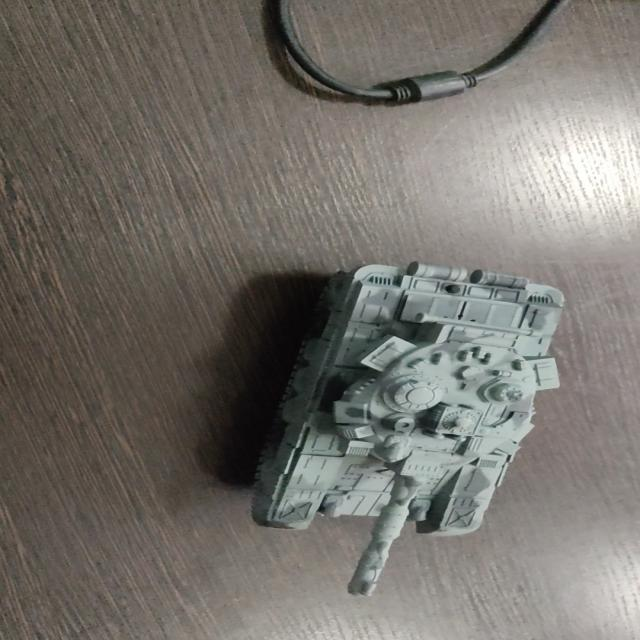tank: (250, 258, 561, 598)
